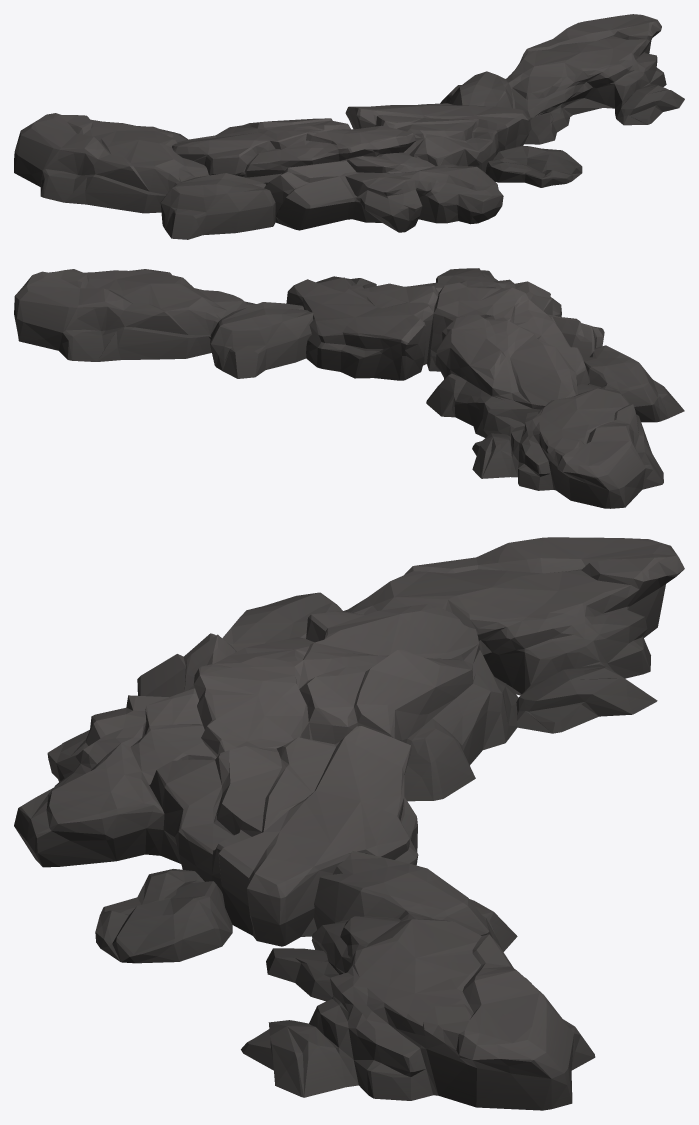
File: ZLP_Rock_E_2.FBX
3 views of the same model, one above another, from view 1: azimuth 30°, elevation 25°; view 2: azimuth 150°, elevation 25°; view 3: azimuth 270°, elevation 25° (orthographic). The views are drawn at different scales.
Visible parts, largest first — view 1: ZLP_Rock_E_2; view 2: ZLP_Rock_E_2; view 3: ZLP_Rock_E_2.
Boxes of the visible parts, bbox=[...] form: ZLP_Rock_E_2: bbox=[14, 14, 684, 239]; ZLP_Rock_E_2: bbox=[14, 268, 684, 508]; ZLP_Rock_E_2: bbox=[14, 537, 684, 1110].
Size of the model in its own units: 1319 by 130 by 700.
